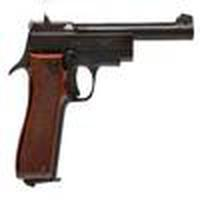gun: (9, 22, 200, 181)
